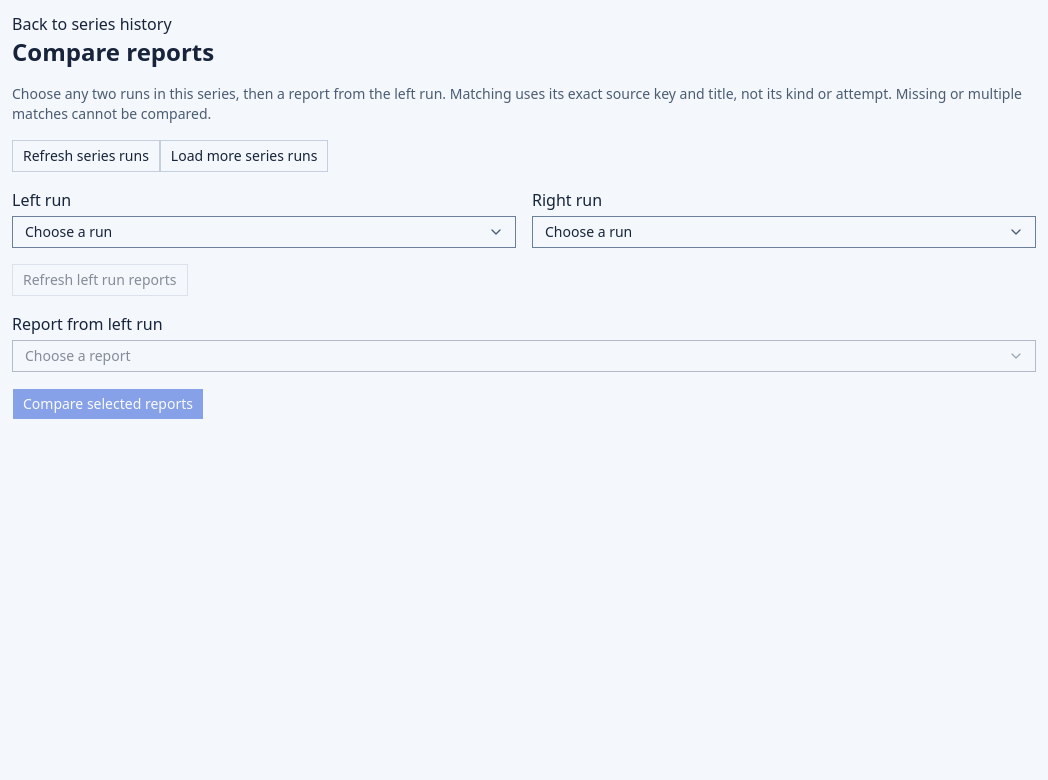
Test: series report comparison › pages beyond the initial history to select an older run
Click the button "Load more series runs" at (244, 156), box [160,140,328,172]
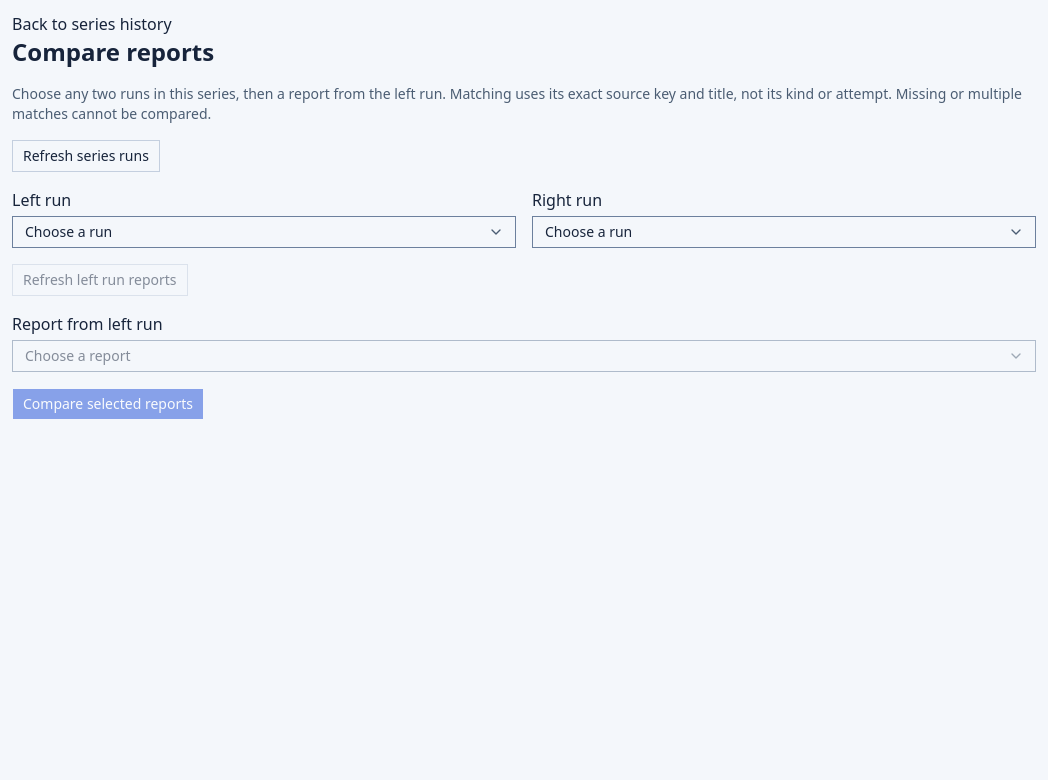
Select "019ed132-2f44-7000-8000-000000000010 | 16 Oct 2026, 07:00:00.000 UTC | Succeeded" in the dropdown labelled "Left run" at (264, 232), box [12,216,516,248]
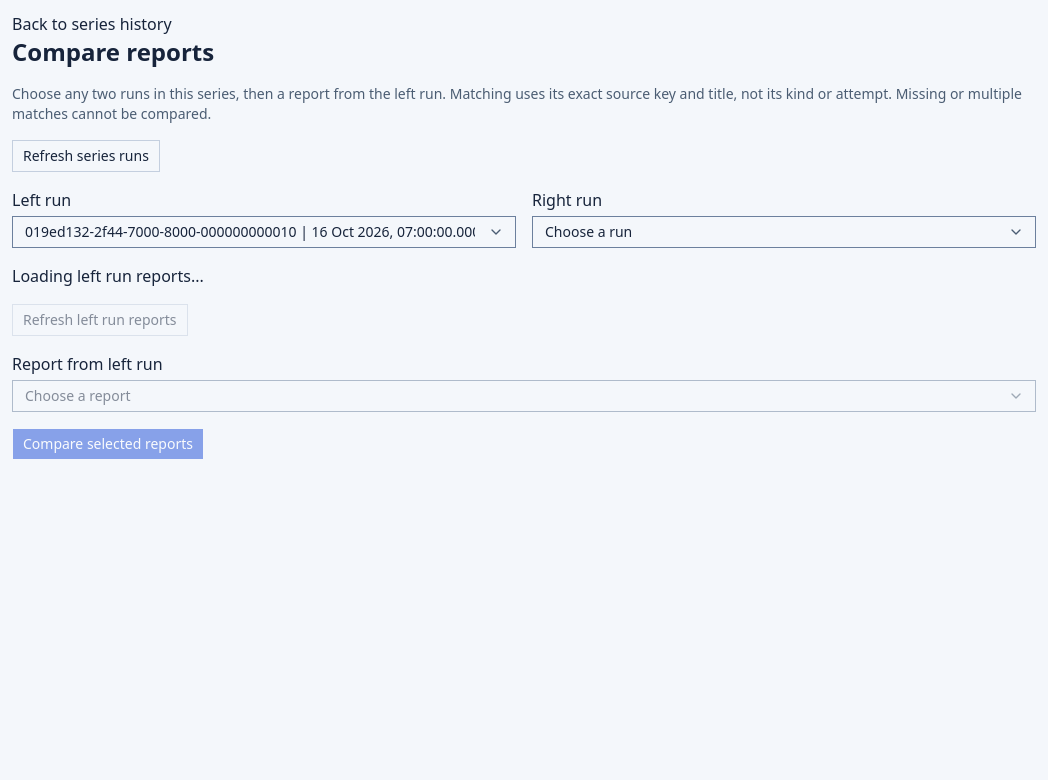
Select "019ed132-2f44-7000-8000-000000000012 | 16 Oct 2026, 07:00:00.000 UTC | Succeeded" in the dropdown labelled "Right run" at (784, 232), box [532,216,1036,248]
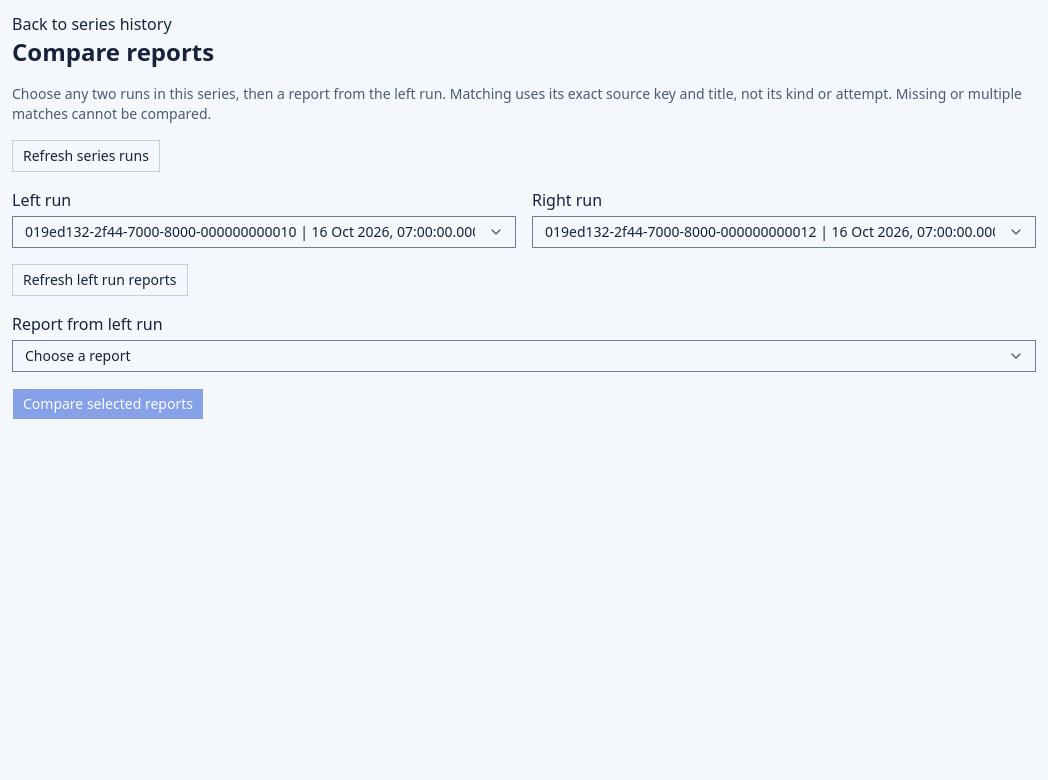
Select "019ed132-2f44-7000-8000-000000000020" in the dropdown labelled "Report from left run" at (524, 356), box [12,340,1036,372]
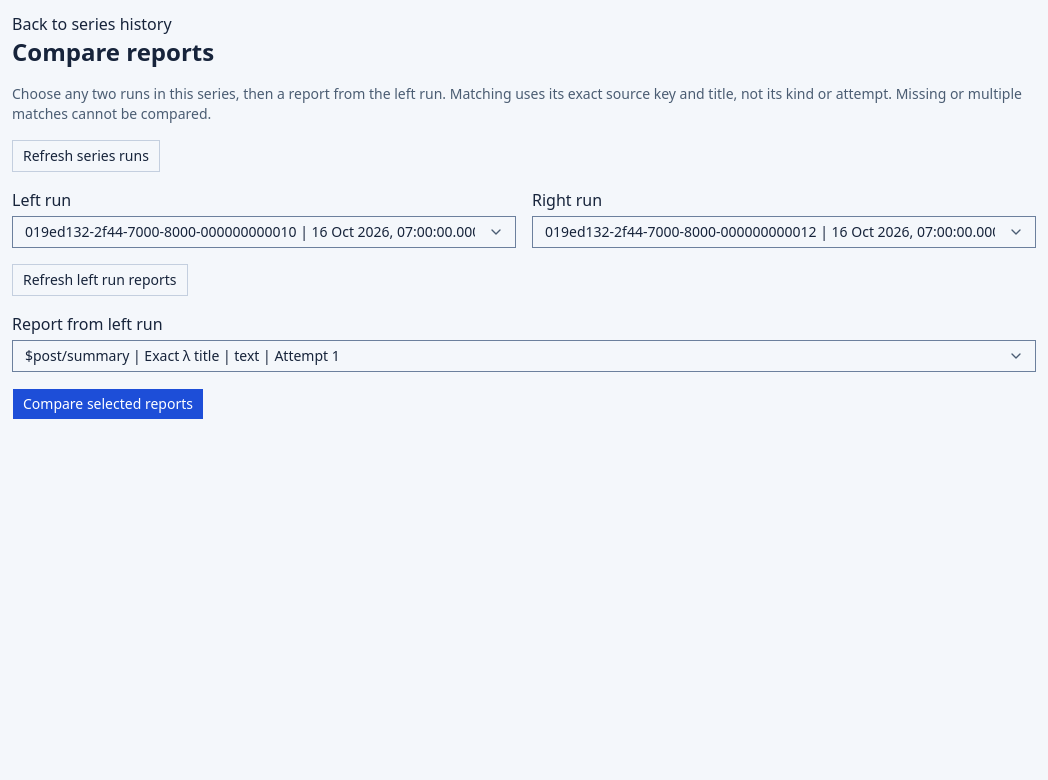
Click the button "Compare selected reports" at (108, 404), box [12,388,204,420]
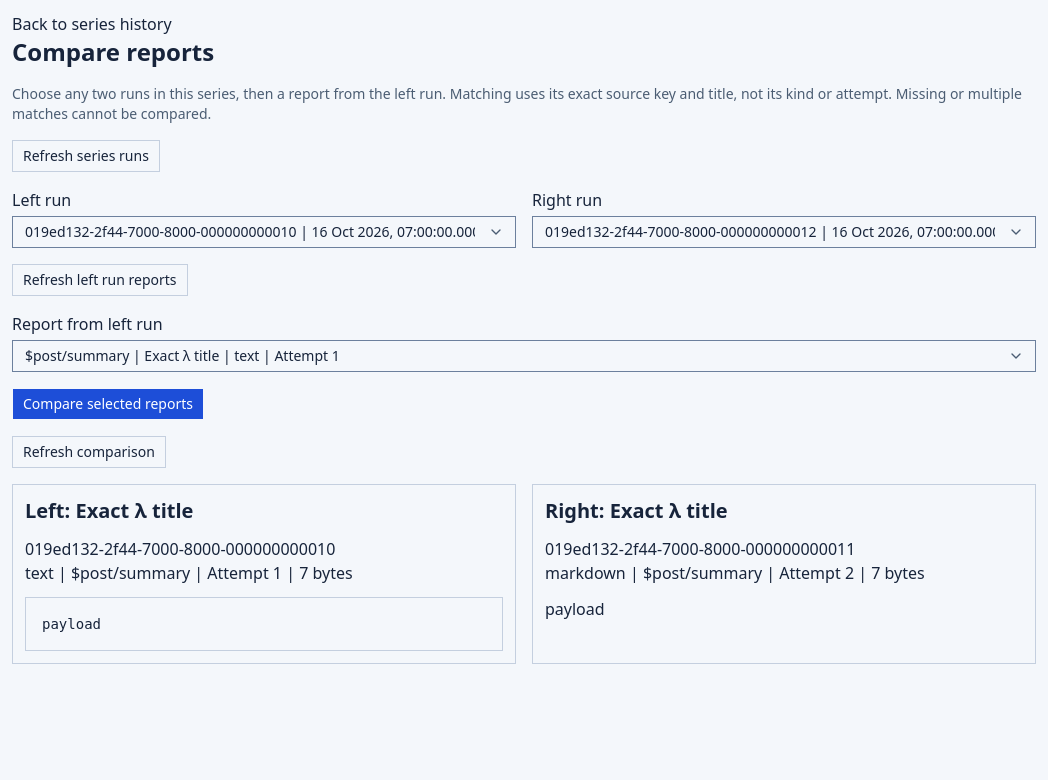
Result: the element named "Left report" is shown at [12,484,516,664]
